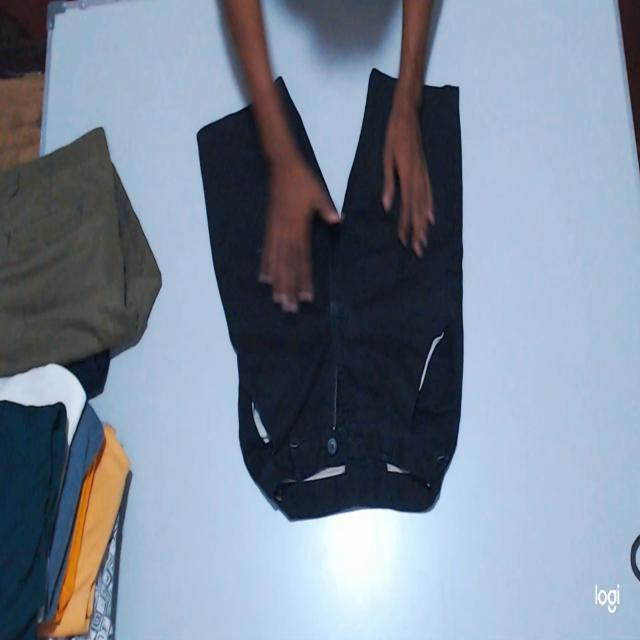new-garment: (196, 69, 464, 519), (197, 69, 463, 520), (274, 78, 330, 200)
